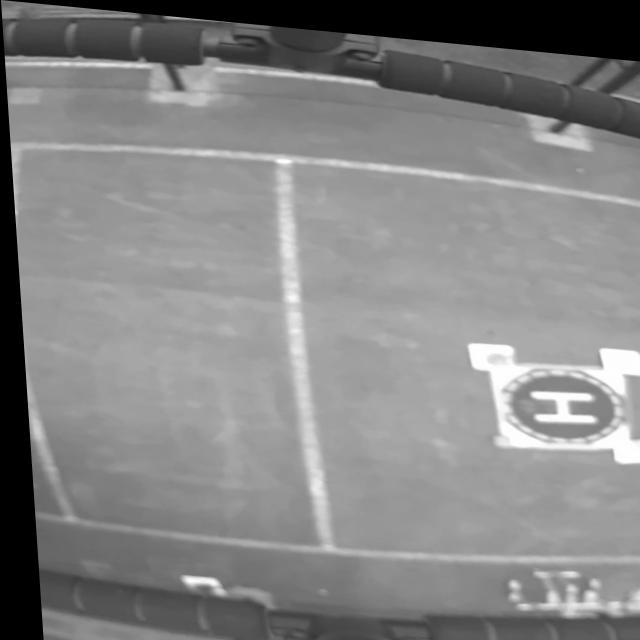Helipad: (522, 380, 593, 412)
